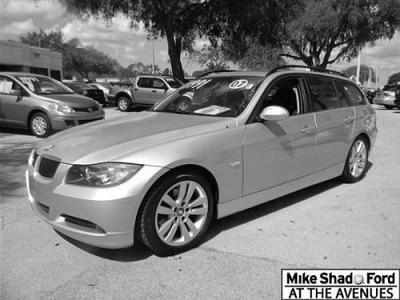car: (26, 66, 379, 258)
